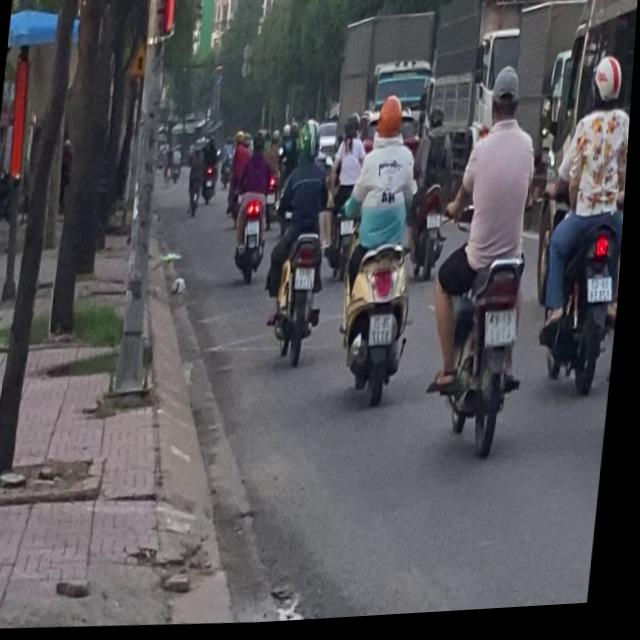helmet: (592, 59, 627, 116), (377, 95, 408, 144), (299, 119, 324, 160)
licenseplate: (422, 65, 557, 464), (534, 54, 636, 404), (336, 90, 437, 410), (262, 116, 345, 369)
motorcyclist: (488, 67, 527, 129)
nohelmet: (488, 314, 521, 351), (373, 317, 398, 349), (590, 281, 618, 308), (298, 270, 318, 294)
